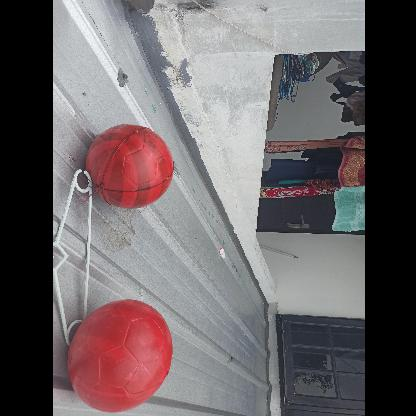red_ball: (62, 300, 176, 412), (87, 124, 173, 210)
